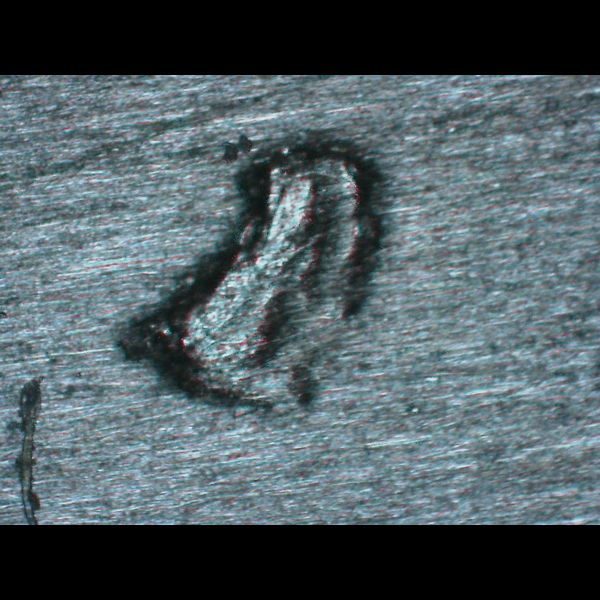d: (104, 128, 407, 427)
